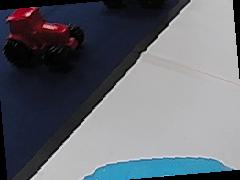Tracktor: (2, 6, 84, 68)
